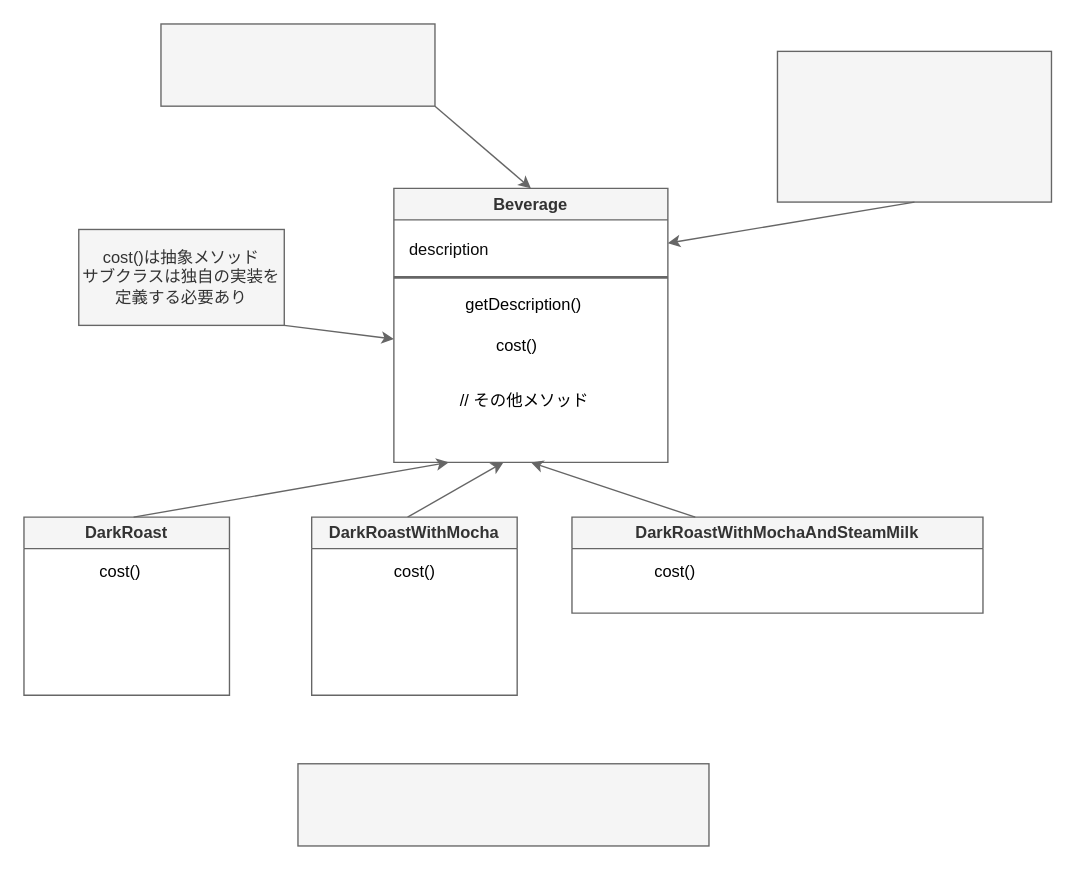
The diagram is 1075 pixels wide and 870 high, and some of its shapes have lost their labels. The centre of each missing label's shape, as x and y in pixels:
"Beverageは抽象クラス すべての飲み物によって サブクラス化される" belongs at point 297,64.
"descriptionインスタンス変数は 各サブクラスで設定され、 飲み物の説明が保持される getDescription() メソッドは この説明を返す" belongs at point 913,126.
"トッピングも複数種類あるため、 それぞれサブクラス化しなければならない" belongs at point 503,804.
